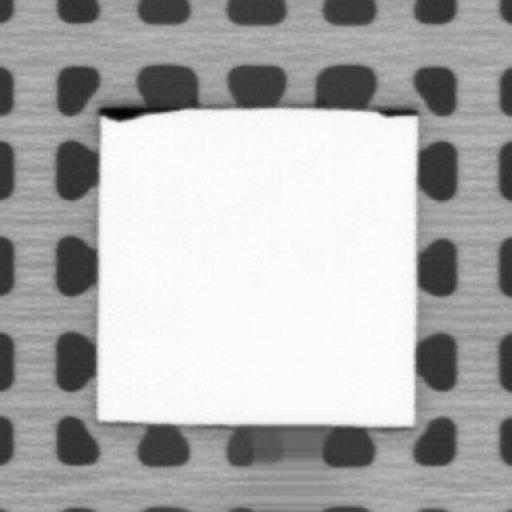DIE_BROKEN: (90, 102, 174, 122), (377, 104, 417, 116)
